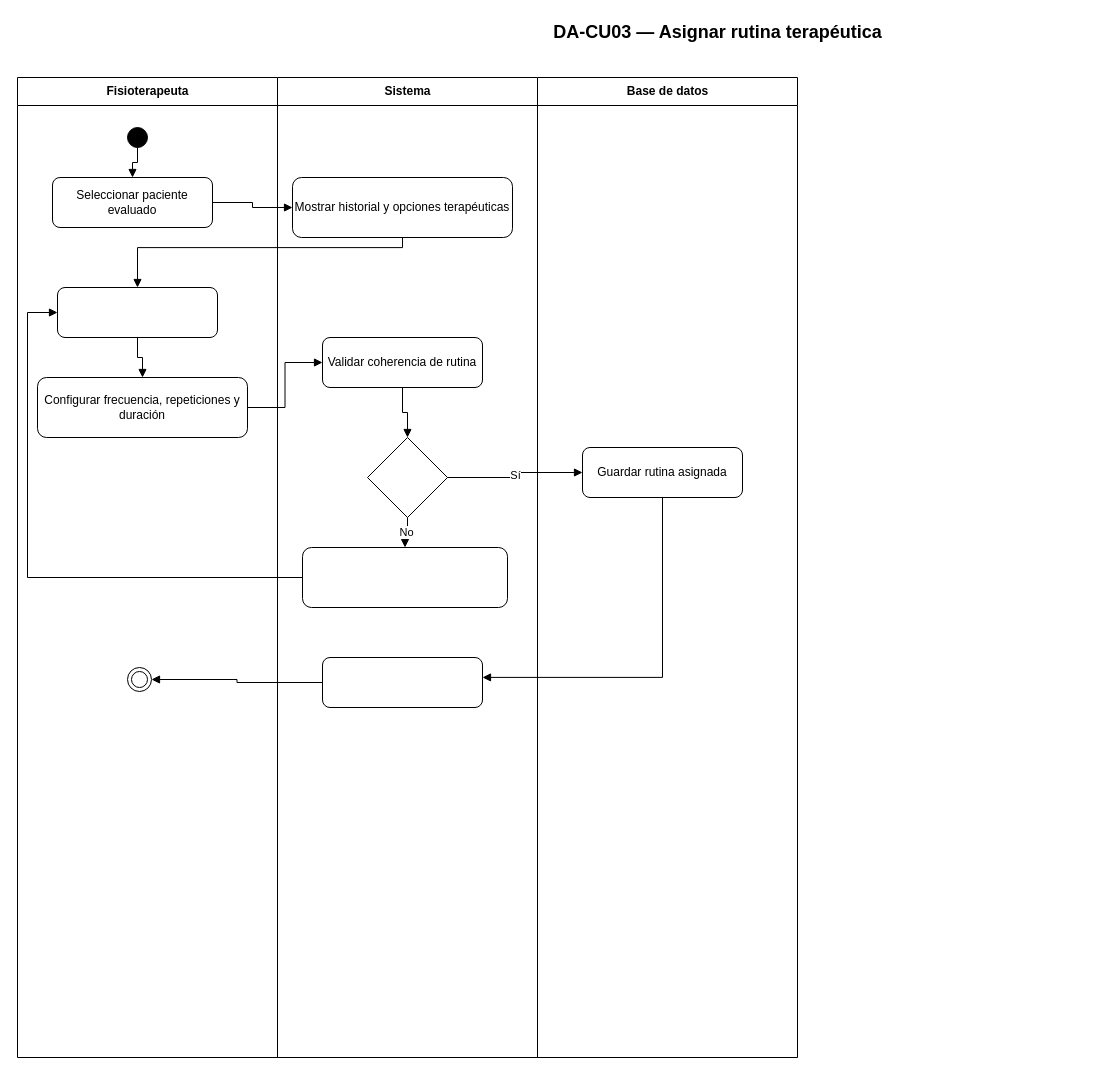
This 1115x1075 diagram has some shape labels left out. Each missing label, with the centre of its shape:
Confirmar rutina activa: point (402, 682)
Definir objetivos y ejercicios: point (137, 312)
Mostrar observaciones de validación: point (405, 577)
¿Rutina válida?: point (407, 477)
